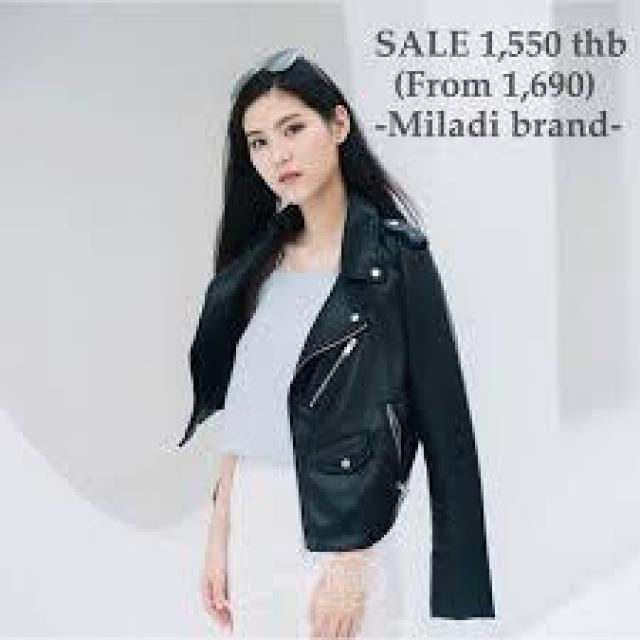jacket: (176, 193, 486, 614)
